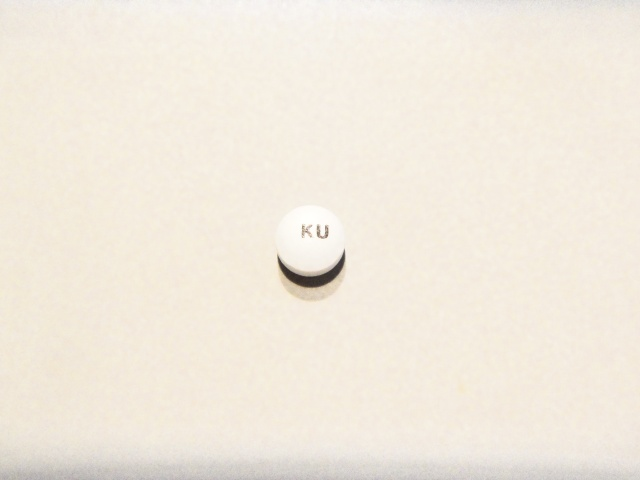K: (300, 221, 313, 242)
U: (314, 222, 332, 242)
